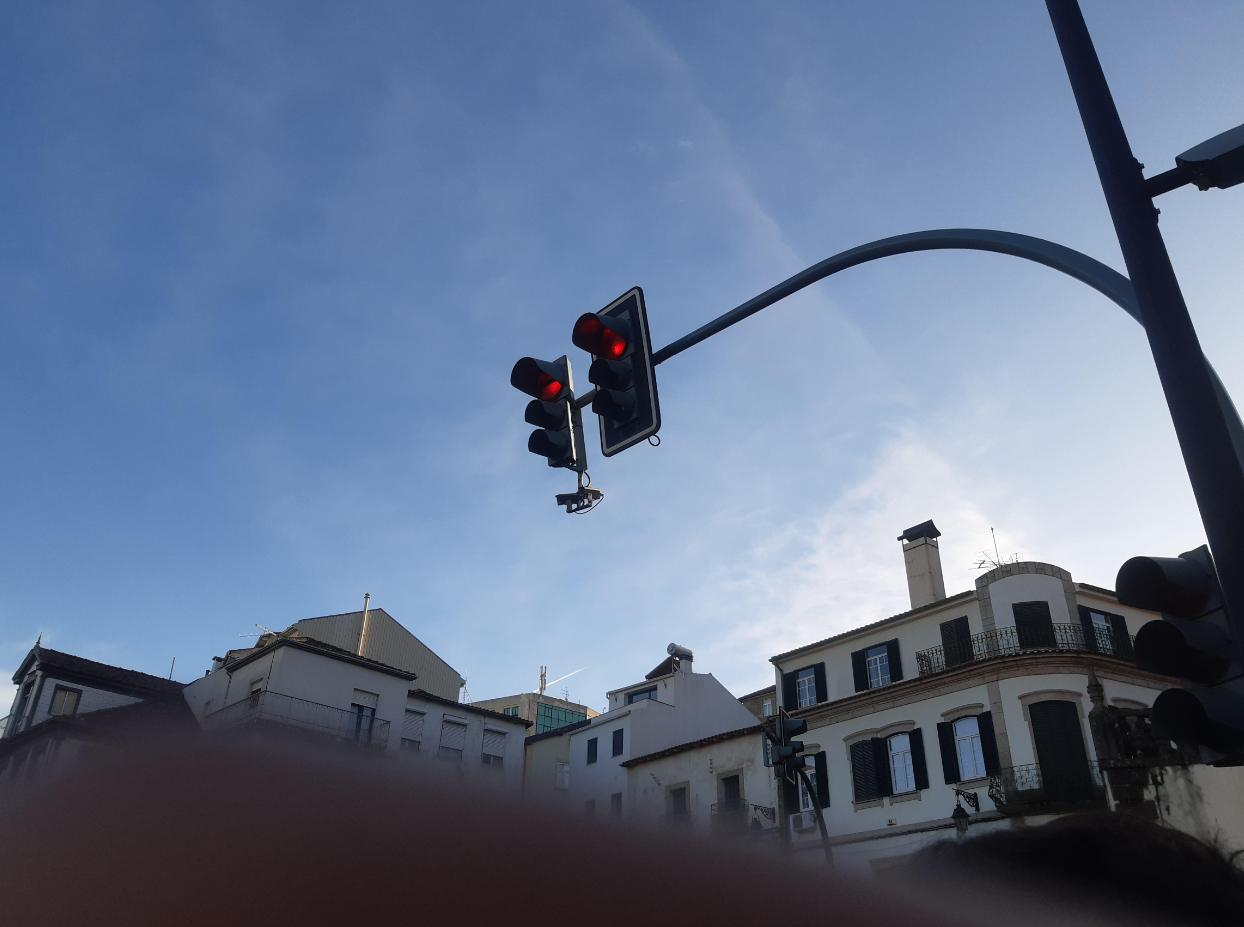red_light: (572, 286, 661, 457), (510, 354, 577, 468)
